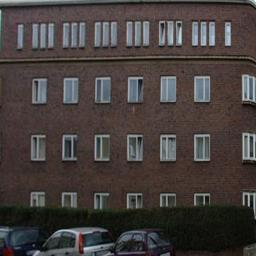building: (0, 0, 256, 230)
